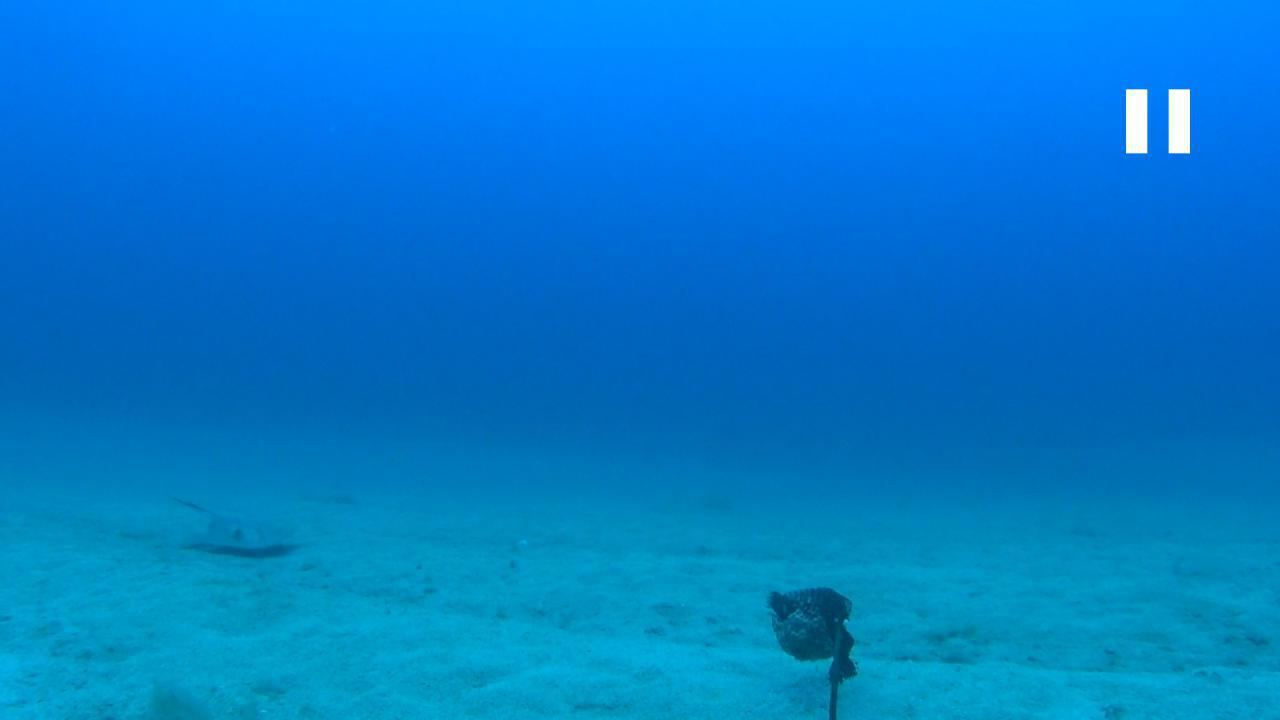dasyatis: (171, 492, 301, 551)
